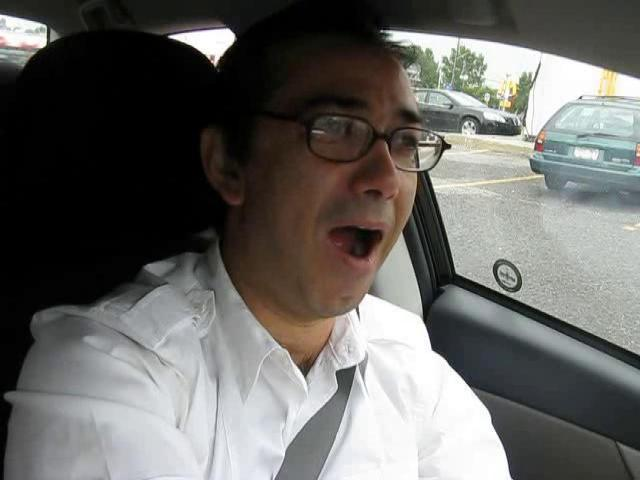eye_open: (310, 113, 370, 151), (389, 128, 425, 160)
face: (266, 89, 422, 320)
mouth_open: (320, 210, 392, 274)
